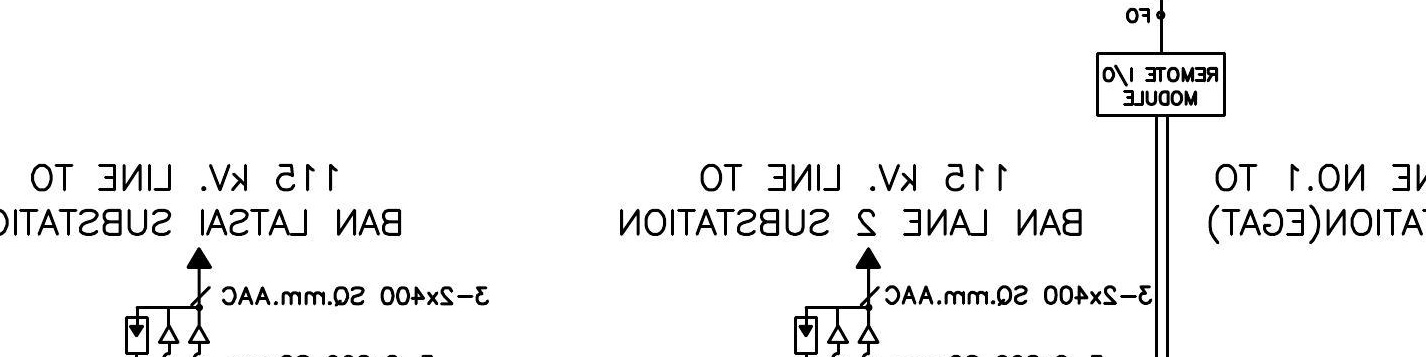remote_io_module: (1096, 52, 1227, 118)
terminator_double: (826, 305, 881, 345), (157, 305, 212, 345)
